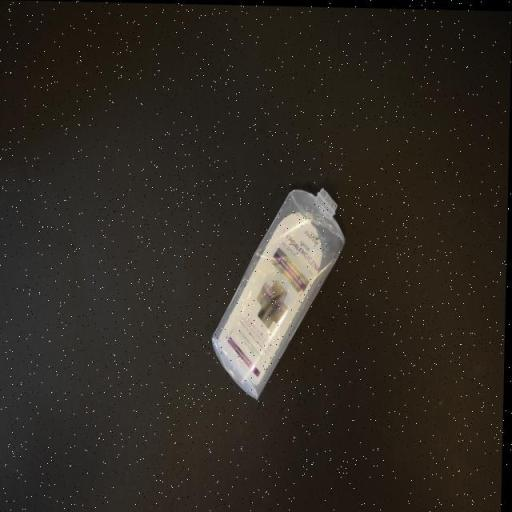plastic: (208, 175, 350, 400)
